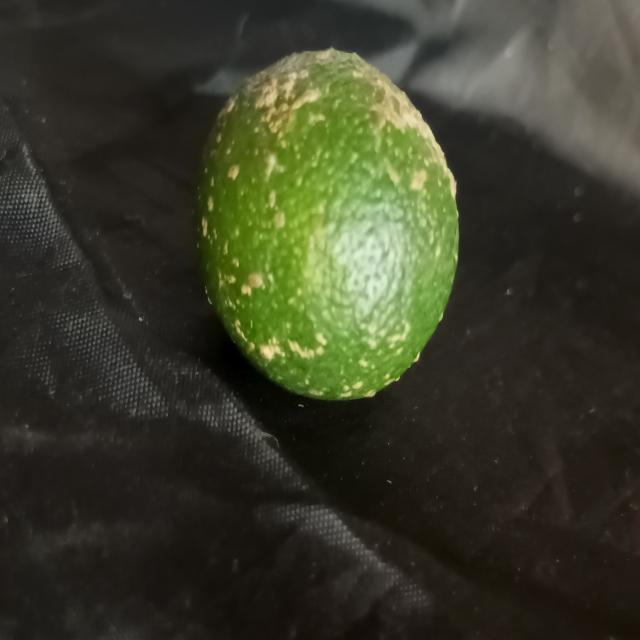scab: (189, 46, 468, 399)
